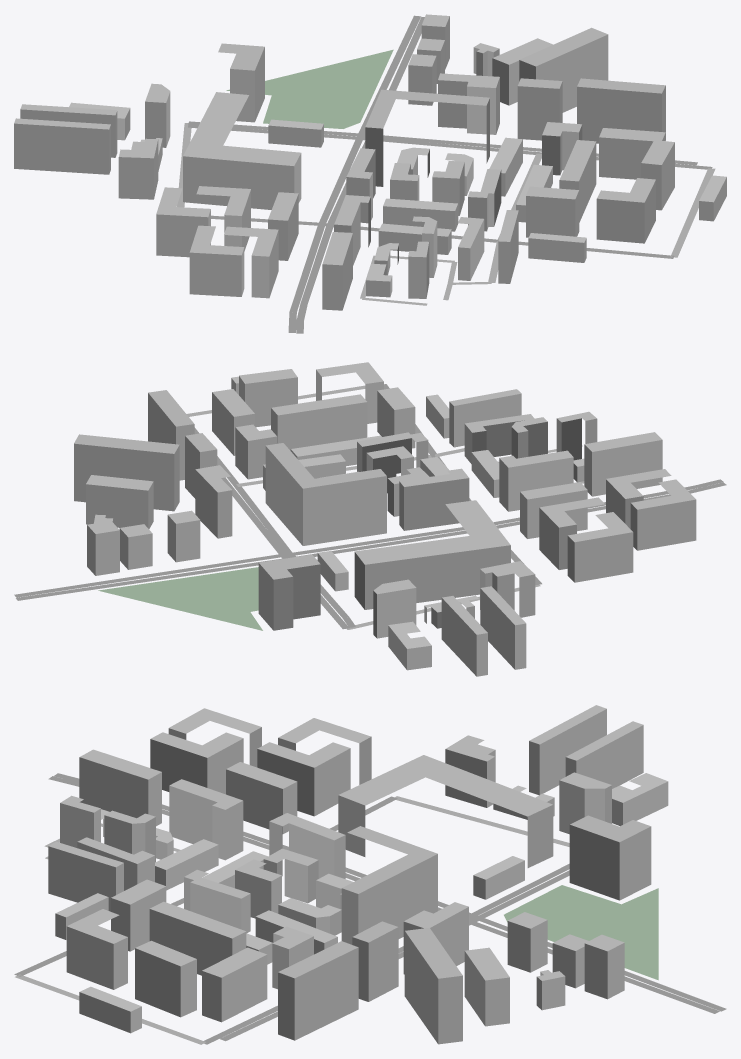
The picture shows the model from 3 angles, top to bottom: view 1: azimuth 30°, elevation 25°; view 2: azimuth 150°, elevation 25°; view 3: azimuth 270°, elevation 25°; orthographic projection. The views are drawn at different scales.
Bounding box in the file's own units: 567 × 60.99 × 591.
